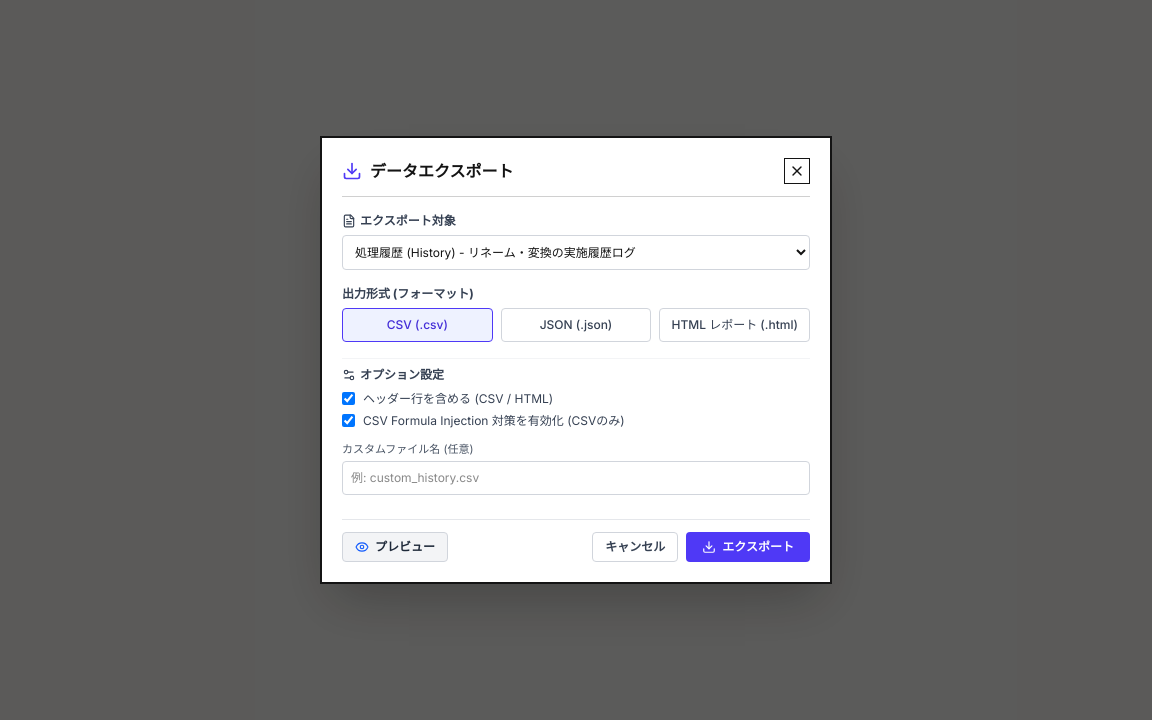
Test: ExportModal › ターゲット切替時に非対応フォーマットボタンが無効化・調整される (supportsTarget判定)
settings は JSON のみ対応
Select "設定情報 (Settings) - アプリの設定パラメータ (JSONのみ対応)" in the dropdown labelled "エクスポート対象" at (576,252), box top-left (342, 235), bottom-right (810, 270)
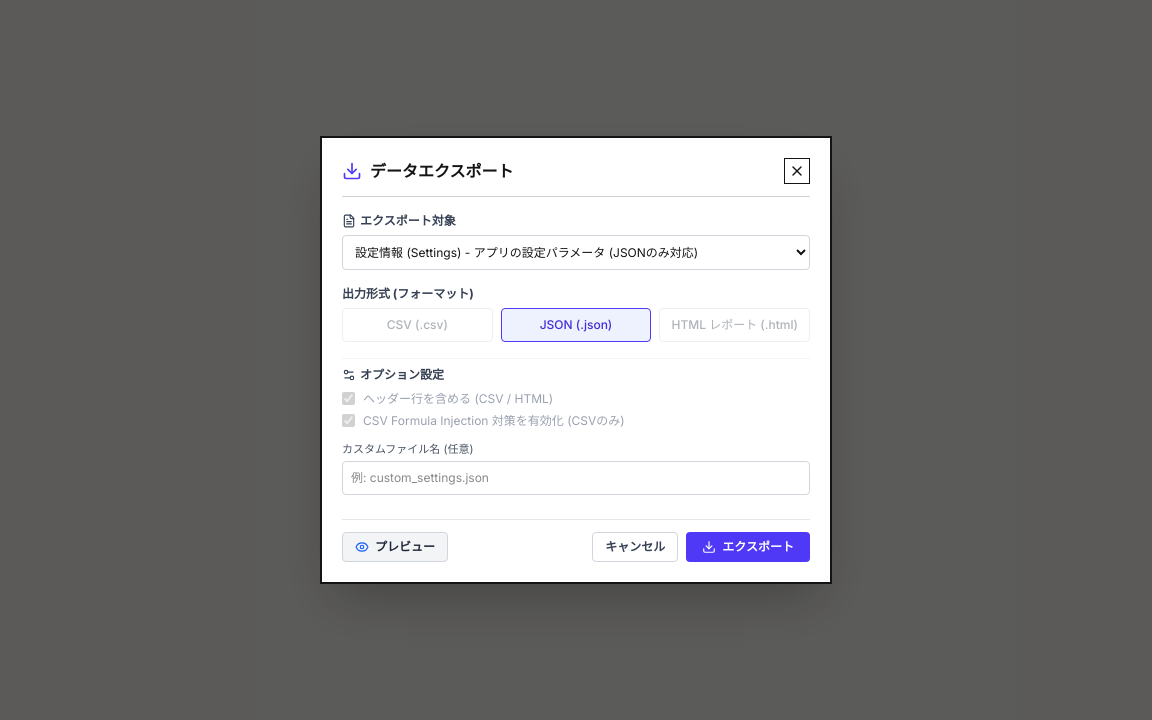
Expected: the button "JSON (.json)" is enabled, top-left (501, 308), bottom-right (651, 342)
Expected: the button "CSV (.csv)" is disabled, top-left (342, 308), bottom-right (493, 342)
Expected: the button "HTML レポート (.html)" is disabled, top-left (659, 308), bottom-right (810, 342)
